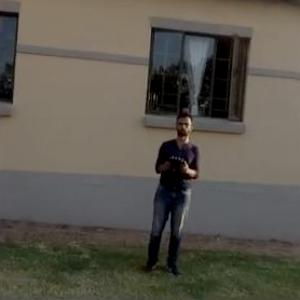follow: (139, 104, 202, 280)
